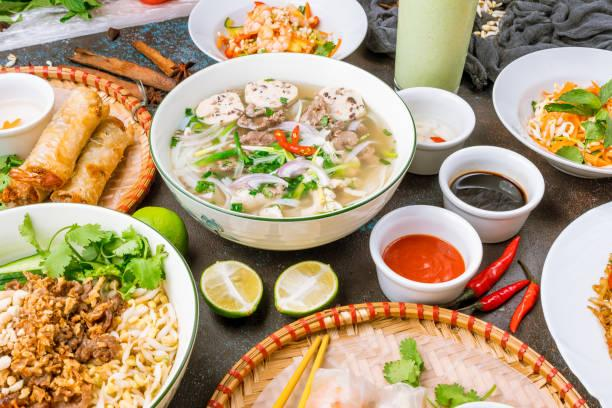Braised Crucian Carp: (150, 52, 407, 250), (4, 202, 200, 407), (492, 44, 612, 187), (185, 0, 372, 68)
